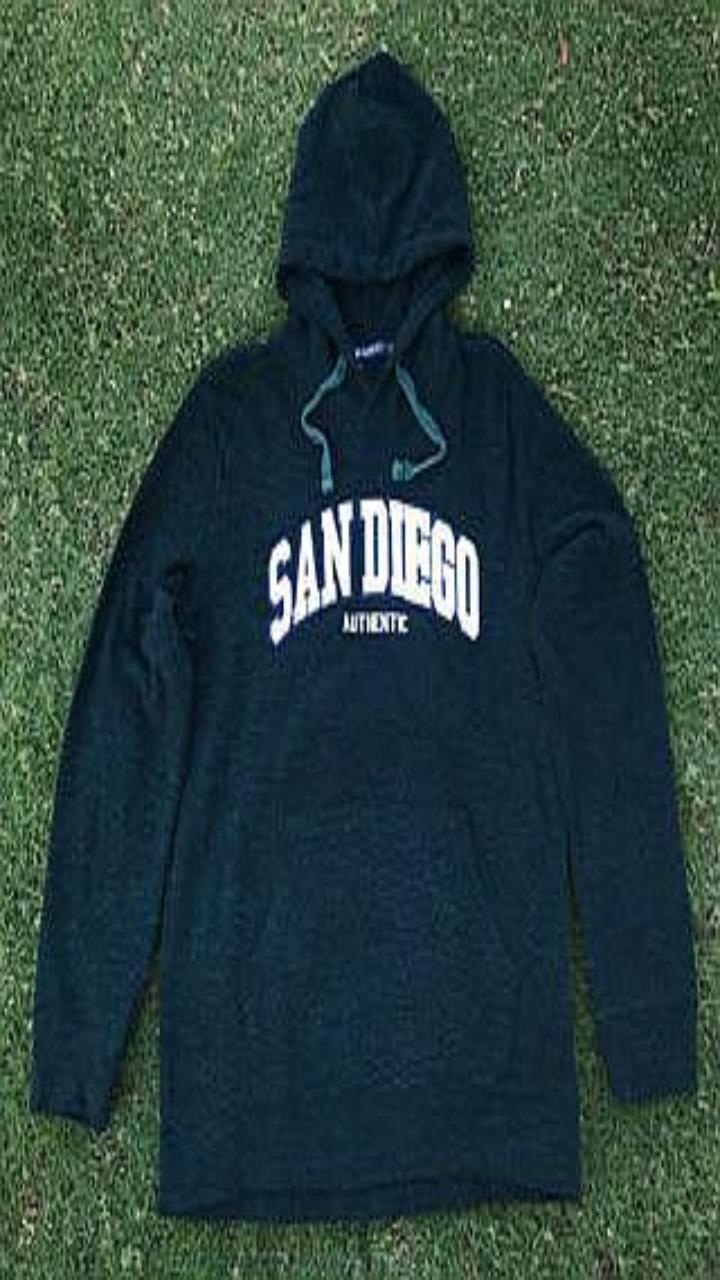Hoodie: (30, 52, 695, 1219)
